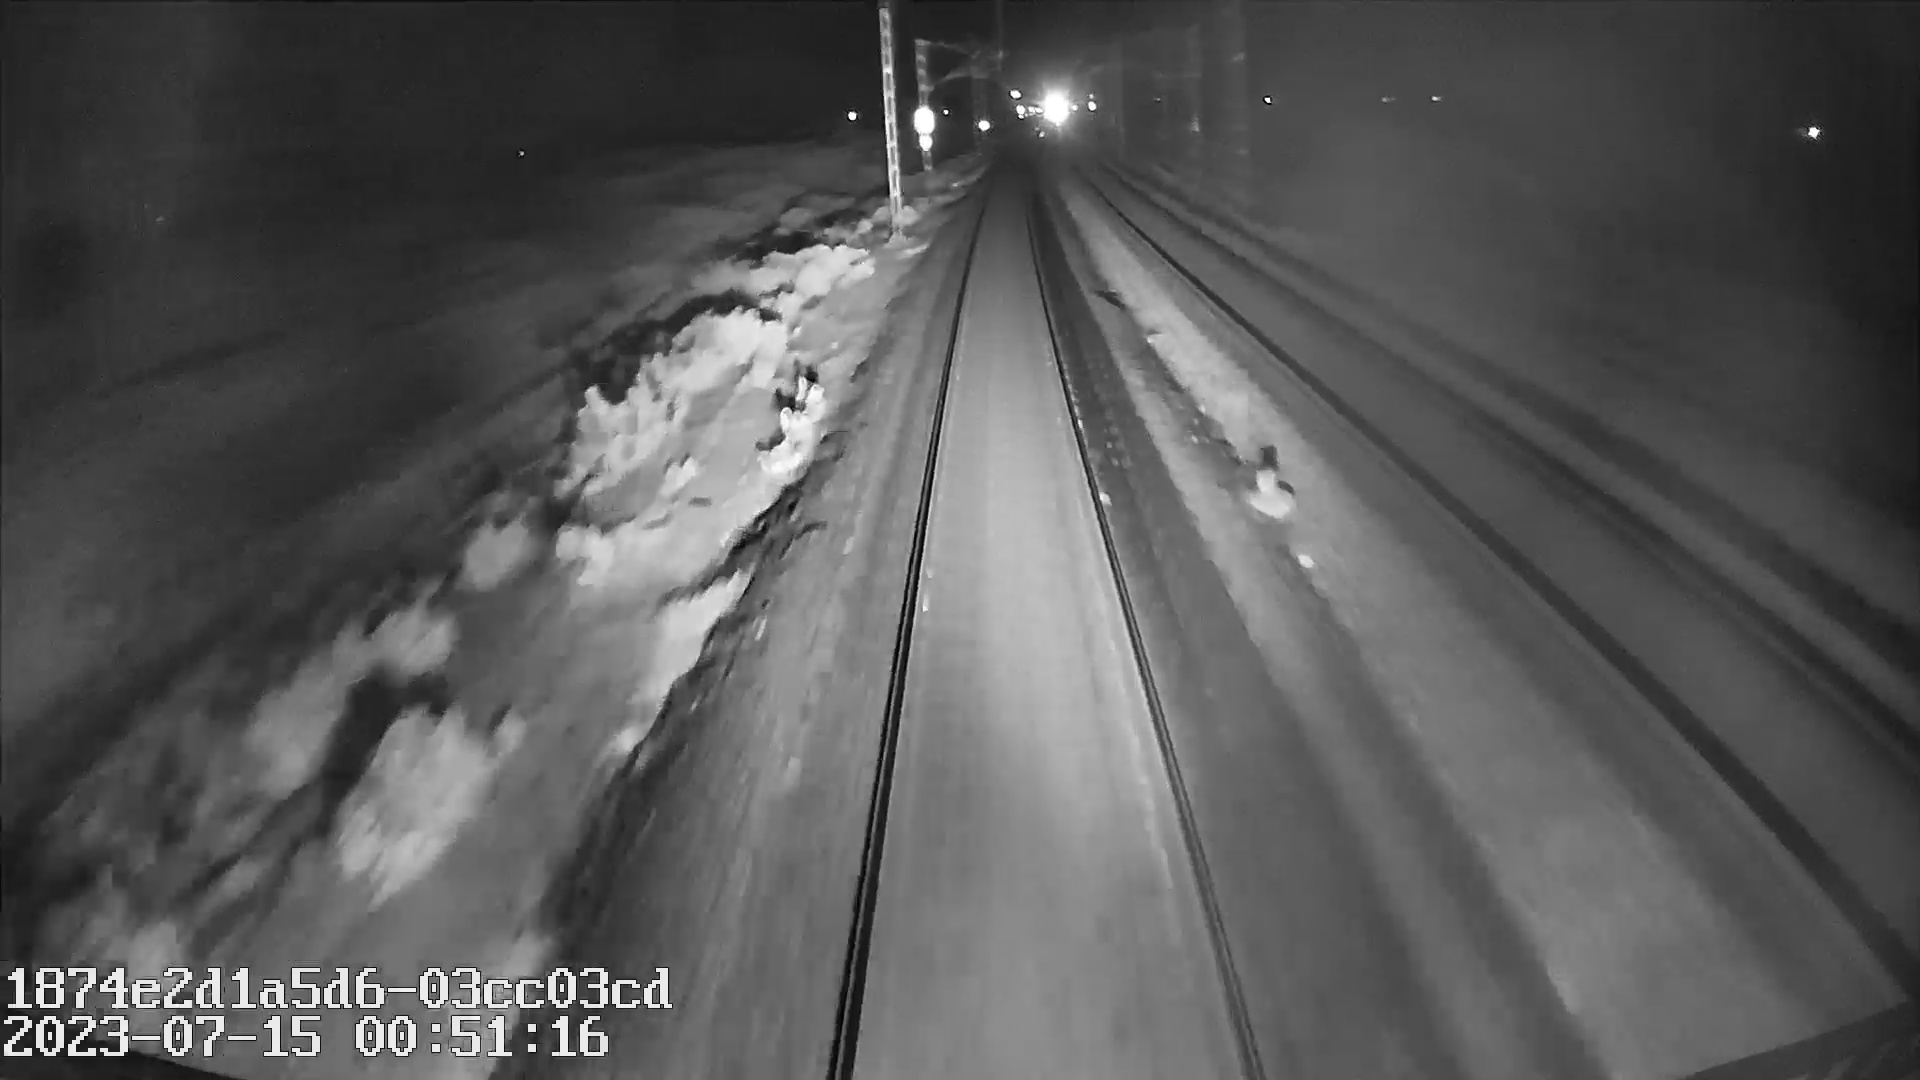track1: (844, 209, 1254, 1058)
track2: (1113, 197, 1911, 864)
